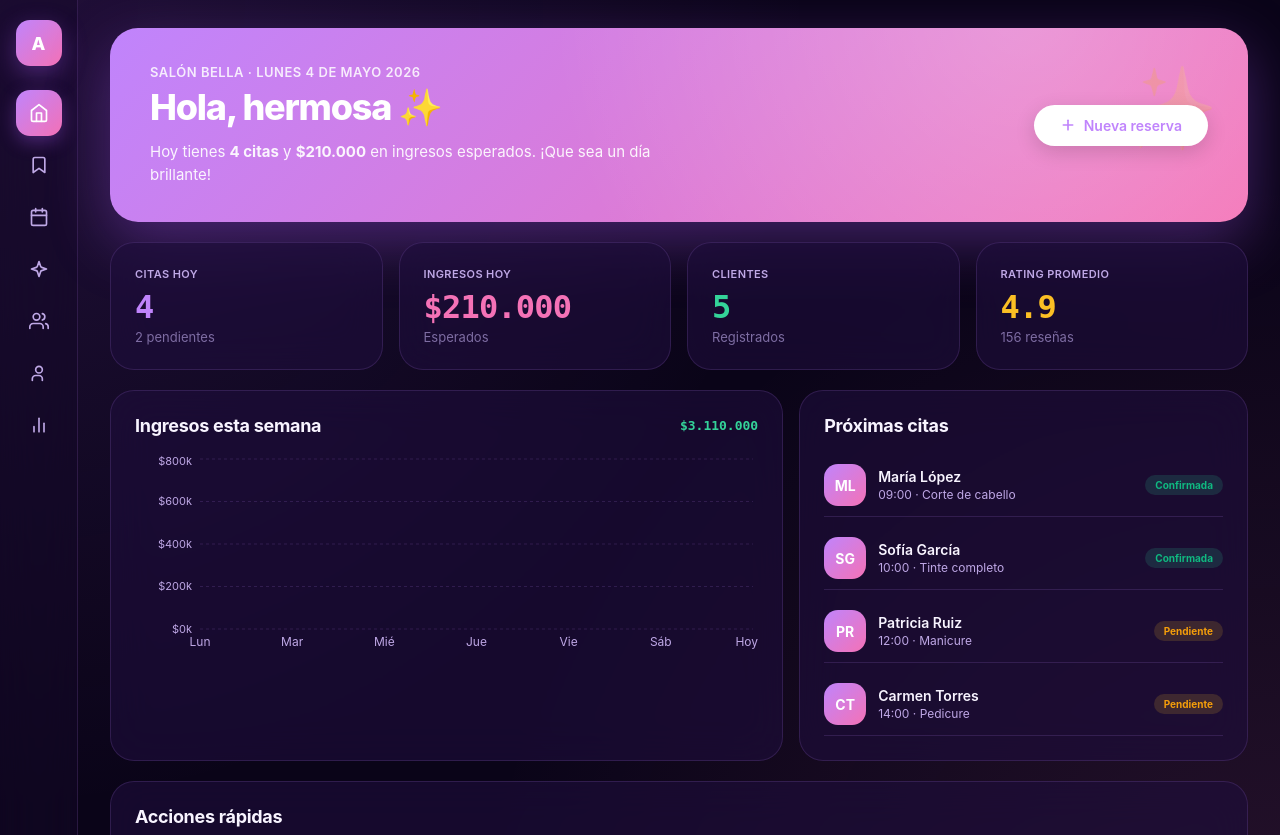
Test: AgendaPro App › filters bookings by search query
Click the button named "Reservas" at (38, 165), box [16,142,62,188]
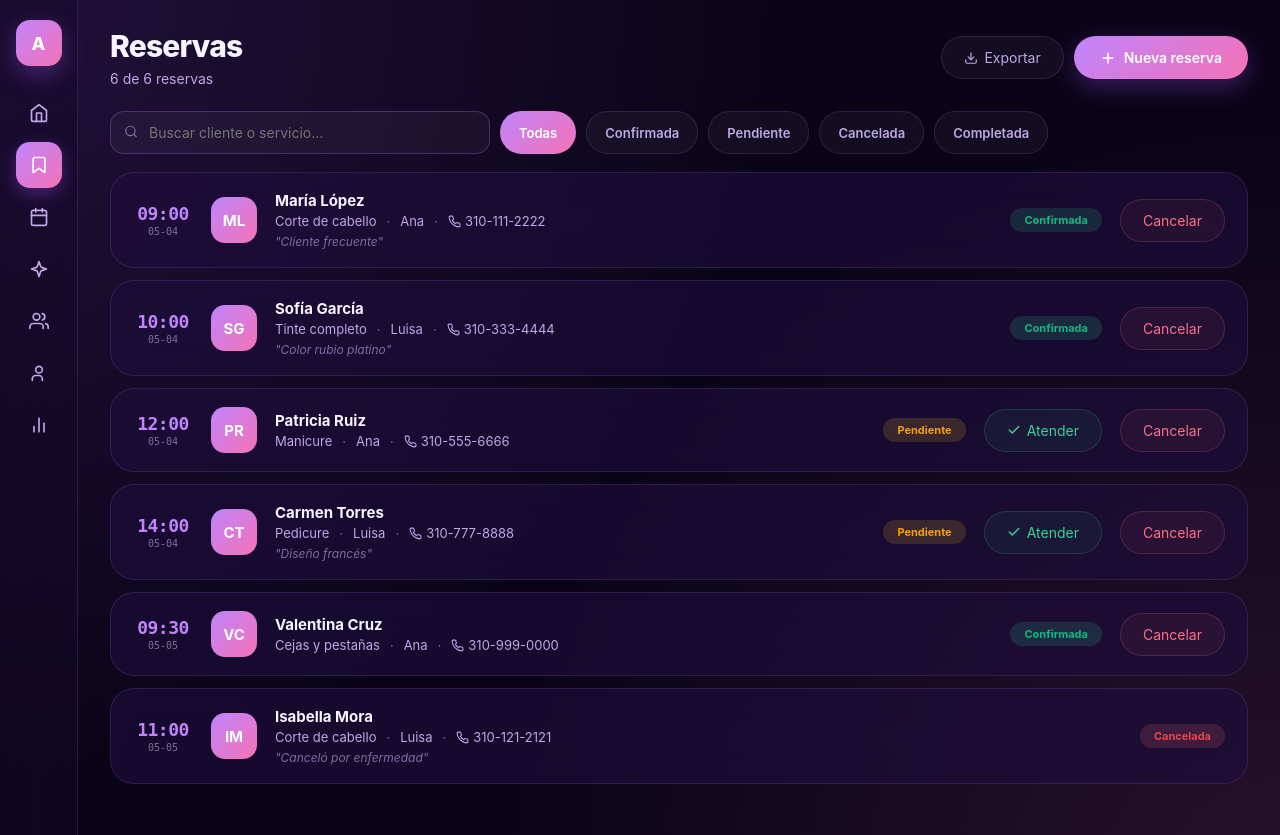
Type "Sofía" into the field with placeholder "Buscar cliente o servicio..." at (300, 132), box [110,111,490,154]
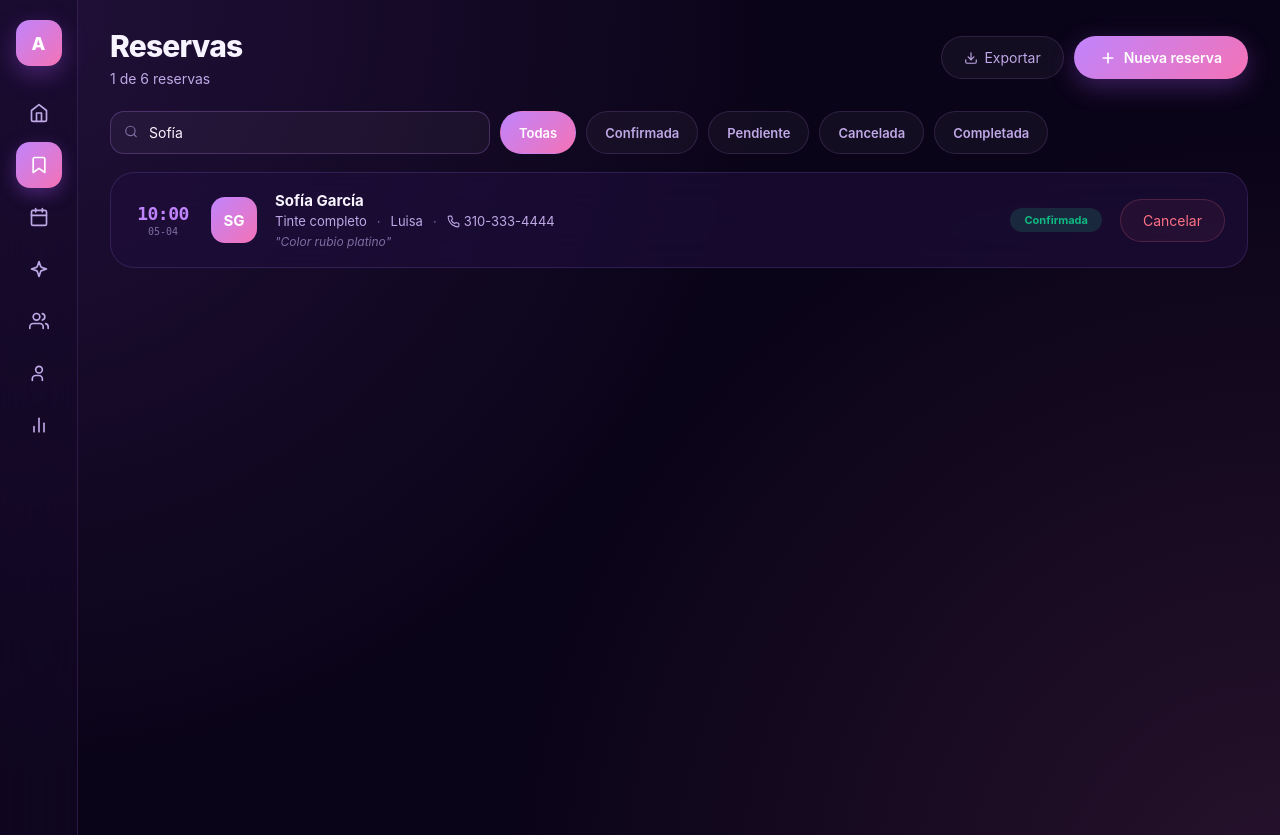
Expected: the text "Sofía García" is shown, [275,191,364,210]
Expected: the text "María López" is gone
